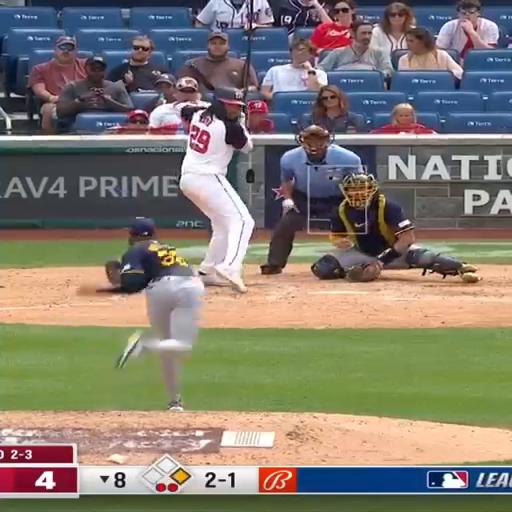bat: (188, 62, 214, 91)
